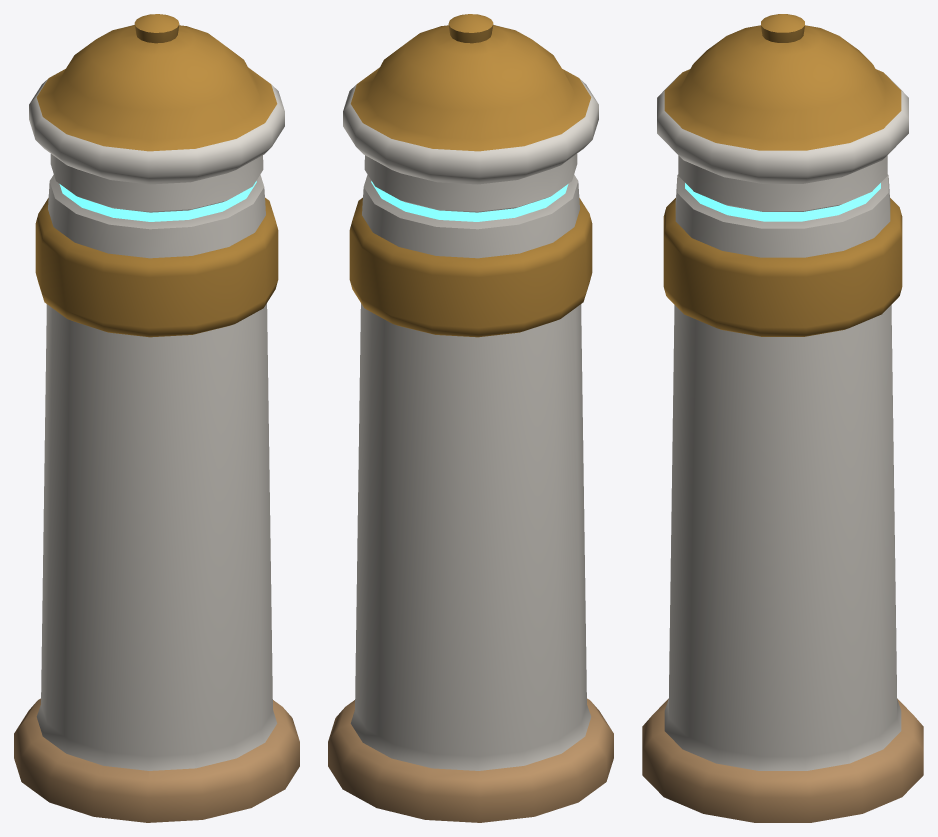
Rendered from bollard.fbx.
3 renders of one model, left to right at view 1: azimuth 30°, elevation 25°; view 2: azimuth 150°, elevation 25°; view 3: azimuth 270°, elevation 25°, orthographic.
Parts seen in each view (by area): view 1: bollard; view 2: bollard; view 3: bollard.
Part boxes in pixels (x1,y1,x2,y2): bollard: (14,14,299,822); bollard: (328,14,613,822); bollard: (642,14,923,822).
Bounding box in the file's own units: 0.3237 × 0.952 × 0.3237.
